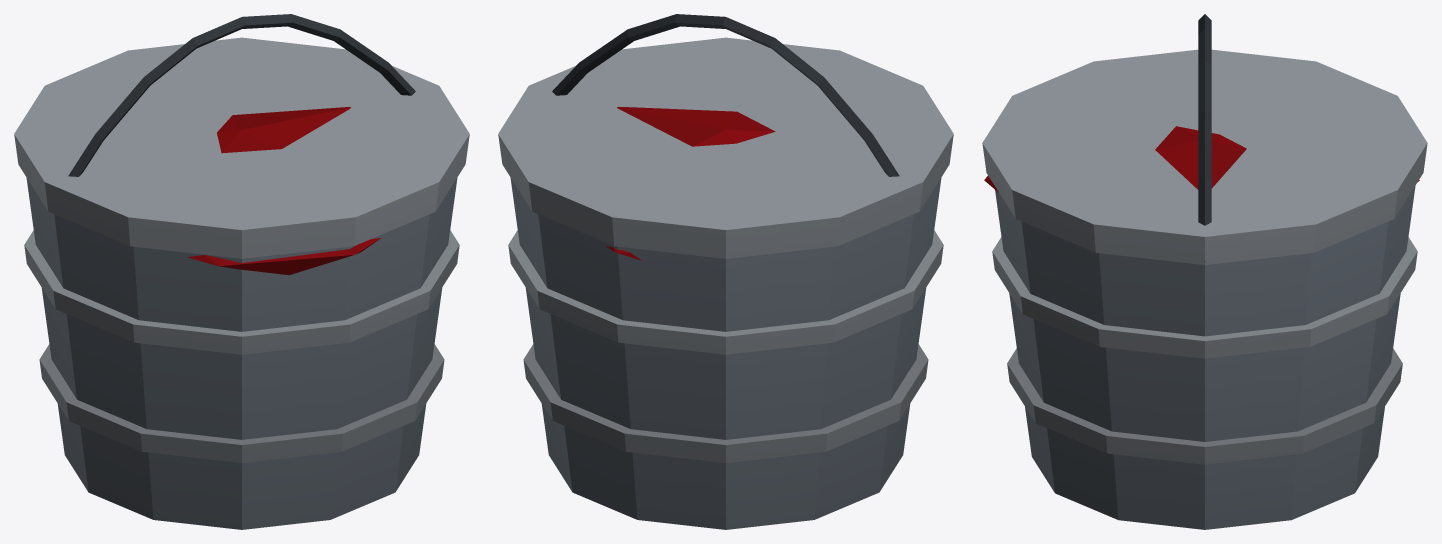
File: bucket.fbx
The picture shows the model from 3 angles, left to right: view 1: azimuth 30°, elevation 25°; view 2: azimuth 150°, elevation 25°; view 3: azimuth 270°, elevation 25°; orthographic projection. The views are drawn at different scales.
Visible parts, largest first — view 1: bucket_0; view 2: bucket_0; view 3: bucket_0.
Part boxes in pixels (box(x1,y1,x2,y2)): bucket_0: box(14, 14, 469, 529); bucket_0: box(498, 14, 953, 529); bucket_0: box(982, 14, 1427, 529).
Bounding box in the file's own units: 0.54 × 0.573 × 0.54.
